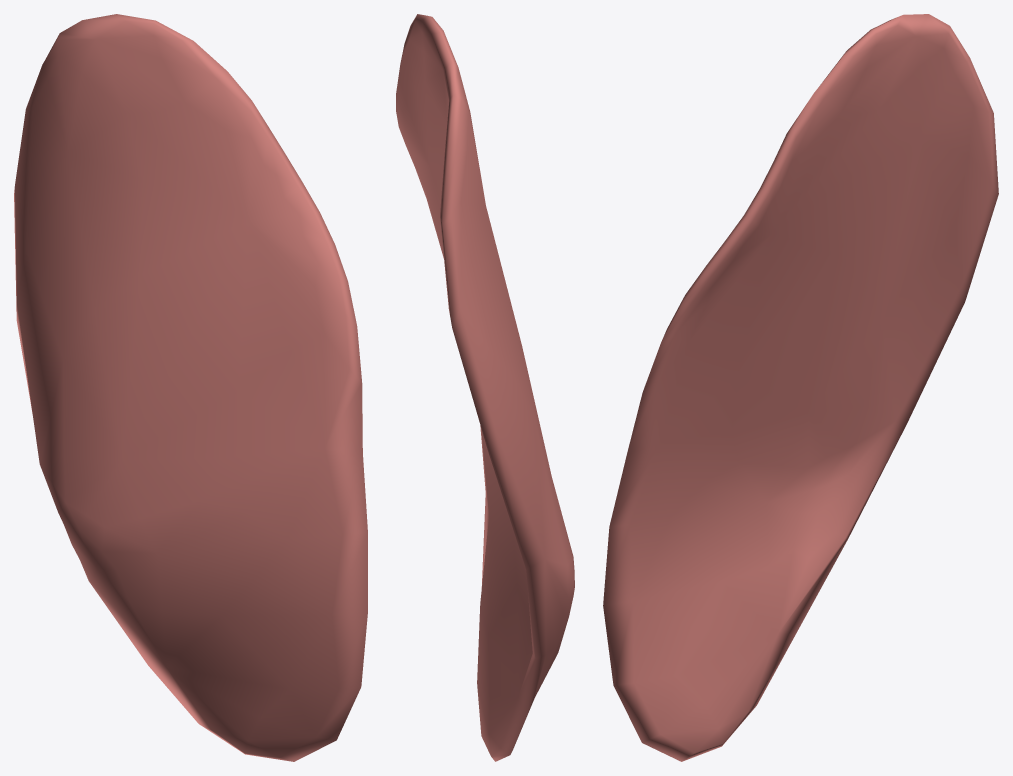
3 renders of one model, left to right at view 1: azimuth 30°, elevation 25°; view 2: azimuth 150°, elevation 25°; view 3: azimuth 270°, elevation 25°, orthographic. The views are drawn at different scales.
Visible parts, largest first — view 1: ZA_2376f6a707ef6a92; view 2: ZA_2376f6a707ef6a92; view 3: ZA_2376f6a707ef6a92.
Boxes of the visible parts, x1,y1,x2,y2 form: ZA_2376f6a707ef6a92: (14, 14, 367, 761); ZA_2376f6a707ef6a92: (396, 14, 574, 761); ZA_2376f6a707ef6a92: (603, 14, 998, 761).
Size of the model in its own units: 0.00728 by 0.023 by 0.0116.
